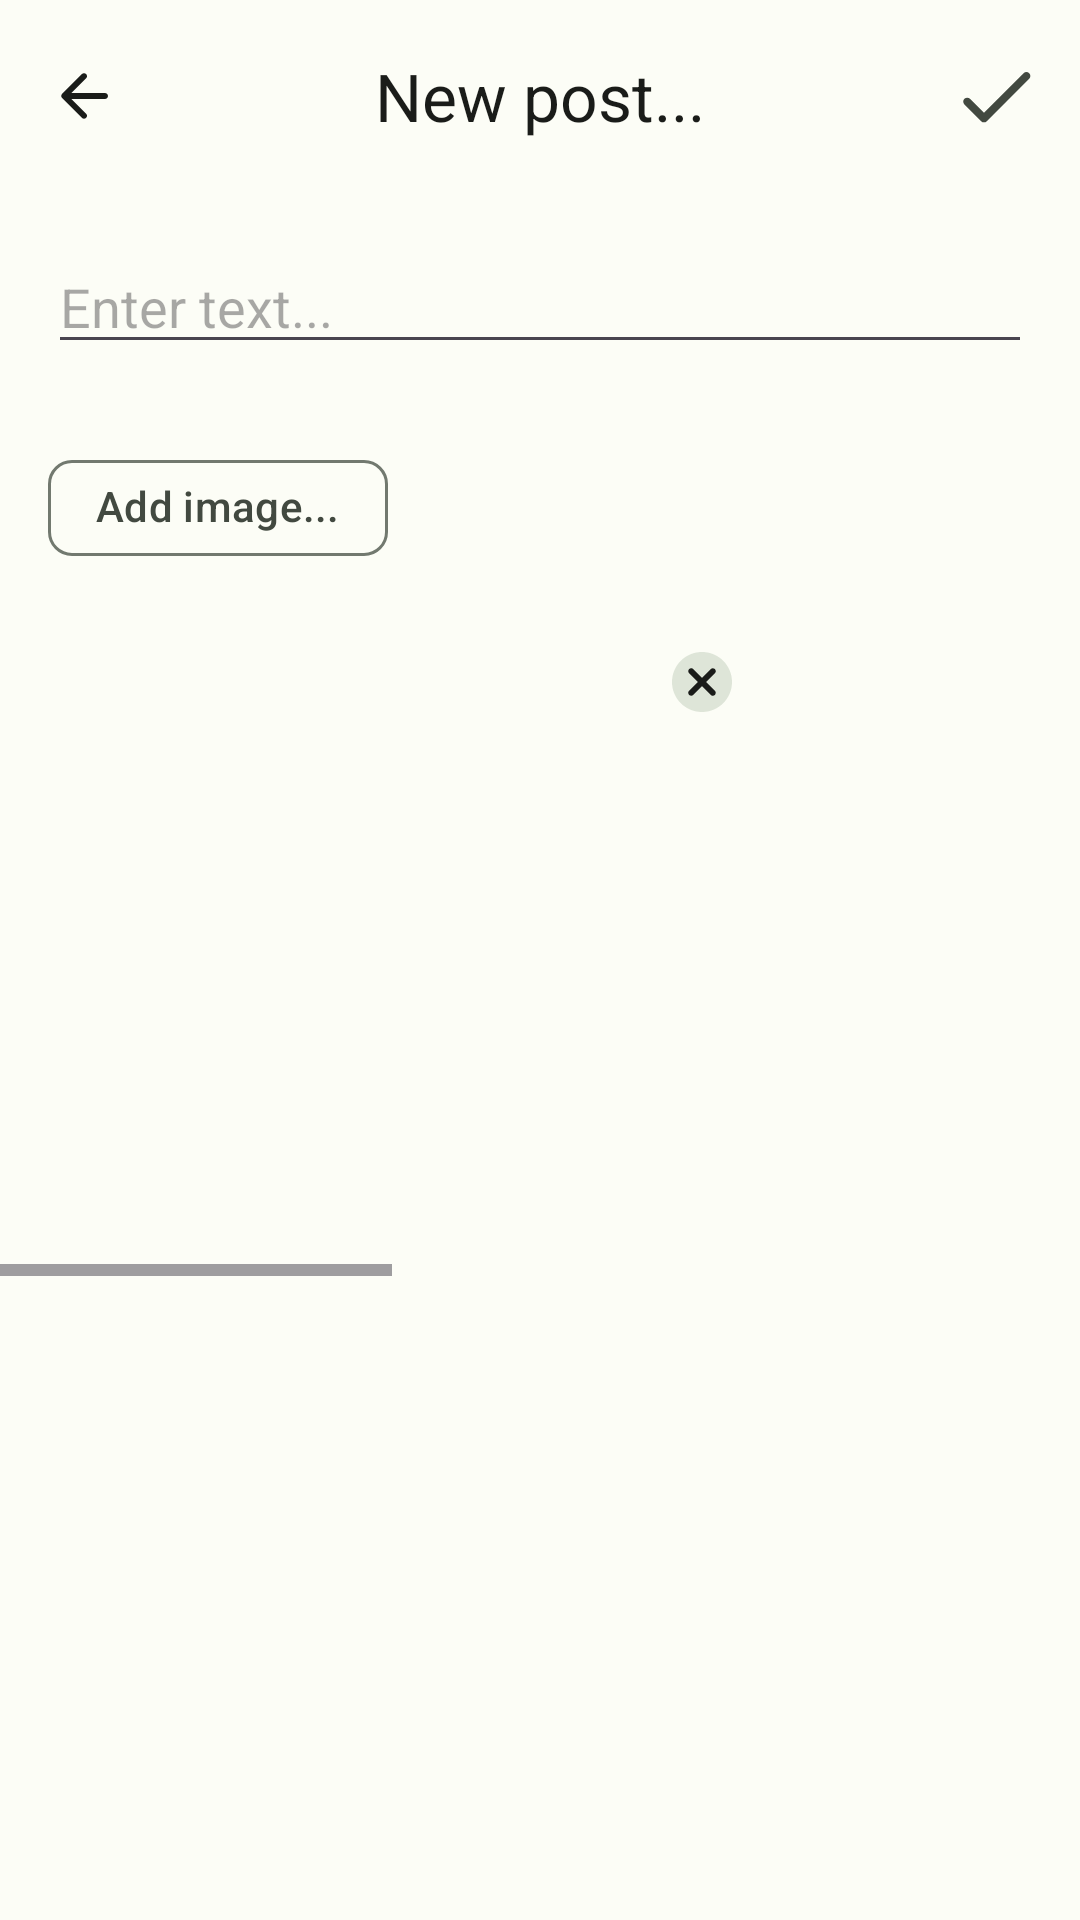

Where to tap for icons on this 1080w x 1920h app screen, as point (x, y):
cancel: point (702, 682)
